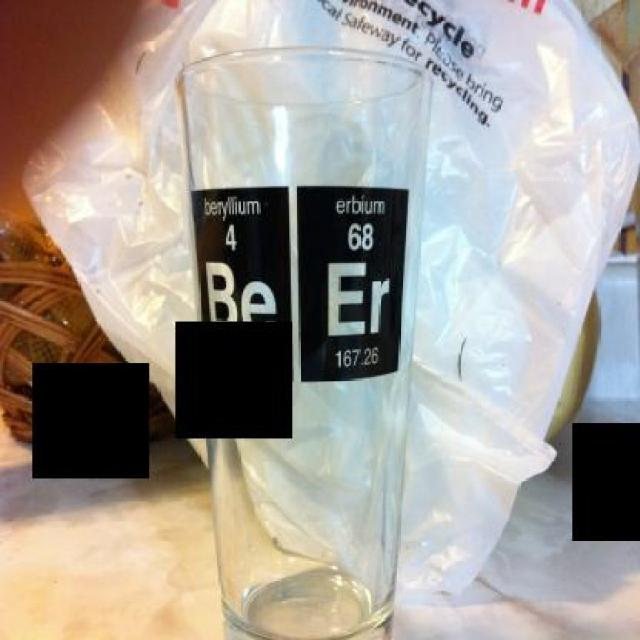plastic bag: (18, 0, 640, 597)
